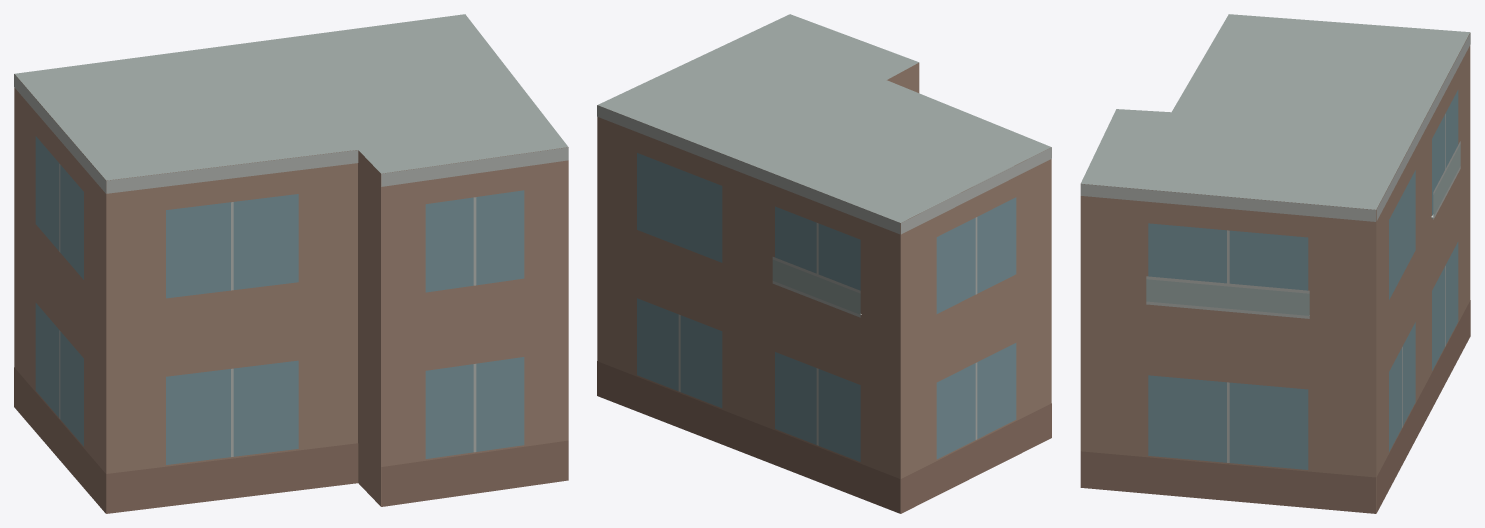
Rendered from survey-upis-32972495.glb.
The picture shows the model from 3 angles, left to right: view 1: azimuth 30°, elevation 25°; view 2: azimuth 150°, elevation 25°; view 3: azimuth 270°, elevation 25°; orthographic projection. The views are drawn at different scales.
Visible parts, largest first — view 1: survey-upis-32972495.tmp; view 2: survey-upis-32972495.tmp; view 3: survey-upis-32972495.tmp.
Part boxes in pixels (bbox=[...]): survey-upis-32972495.tmp: bbox=[14, 14, 568, 513]; survey-upis-32972495.tmp: bbox=[597, 14, 1051, 513]; survey-upis-32972495.tmp: bbox=[1080, 14, 1470, 513].
Bounding box in the file's own units: 8.44 × 6.1 × 7.1.
